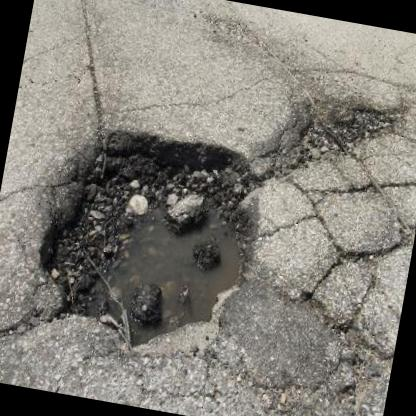pothole: (21, 111, 277, 365), (268, 85, 403, 193)
